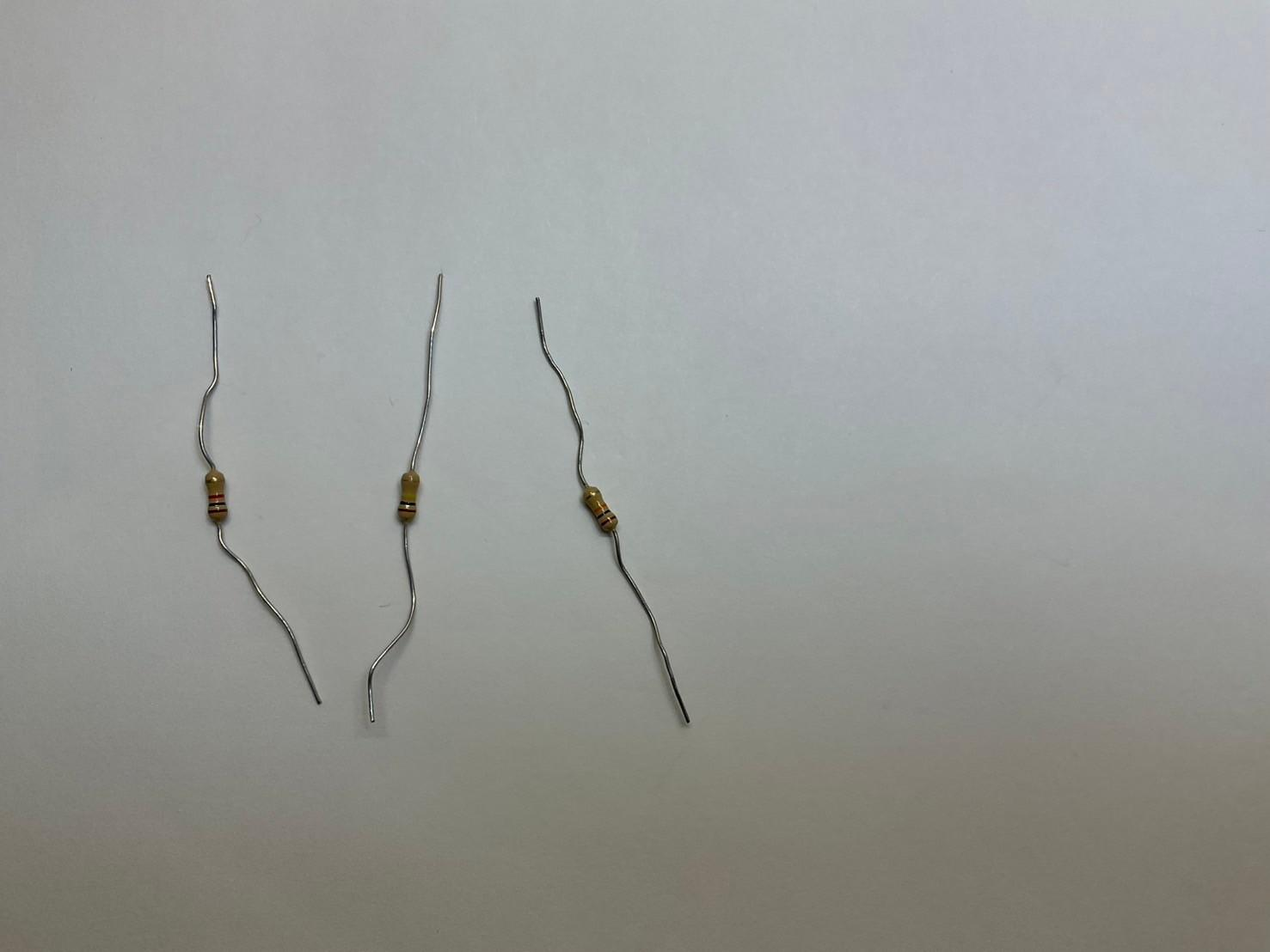resistor: (579, 485, 620, 536), (202, 469, 231, 527), (395, 469, 425, 524)
